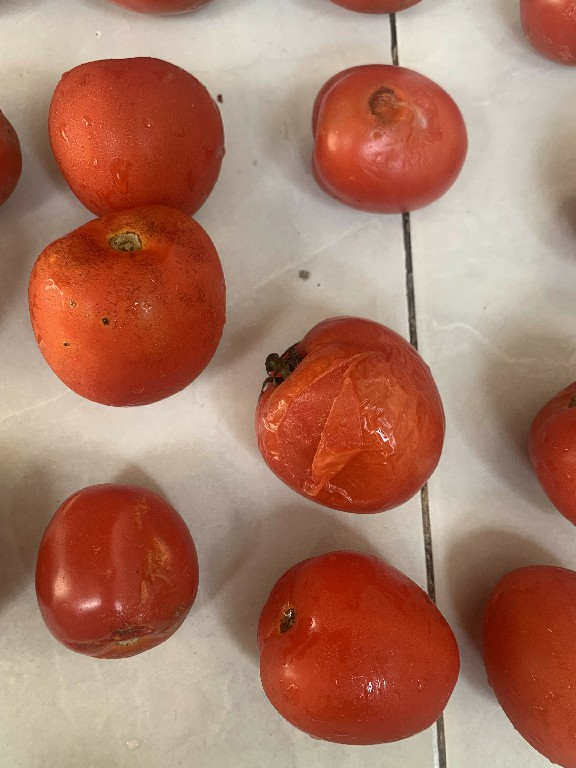NG: (25, 208, 231, 418), (248, 308, 449, 523), (31, 474, 202, 672), (294, 52, 482, 223)
OK: (254, 537, 478, 747), (34, 49, 228, 225)
